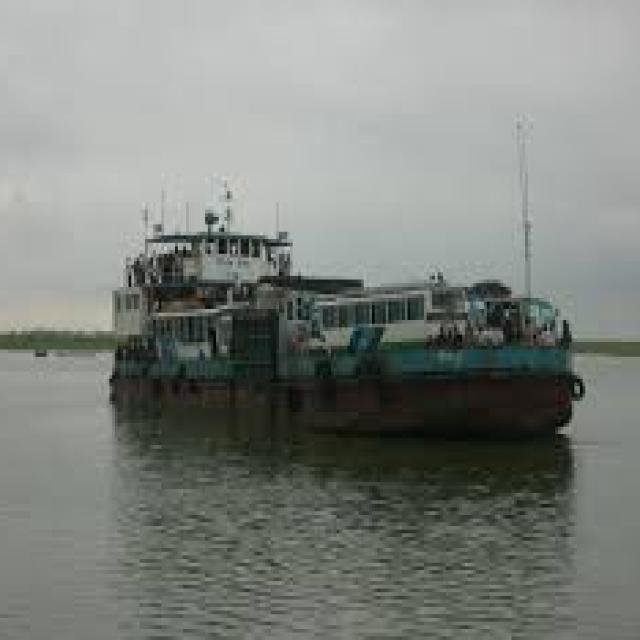fishing boat: (108, 218, 580, 429)
